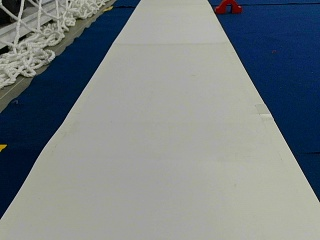bridge: (216, 0, 241, 12)
